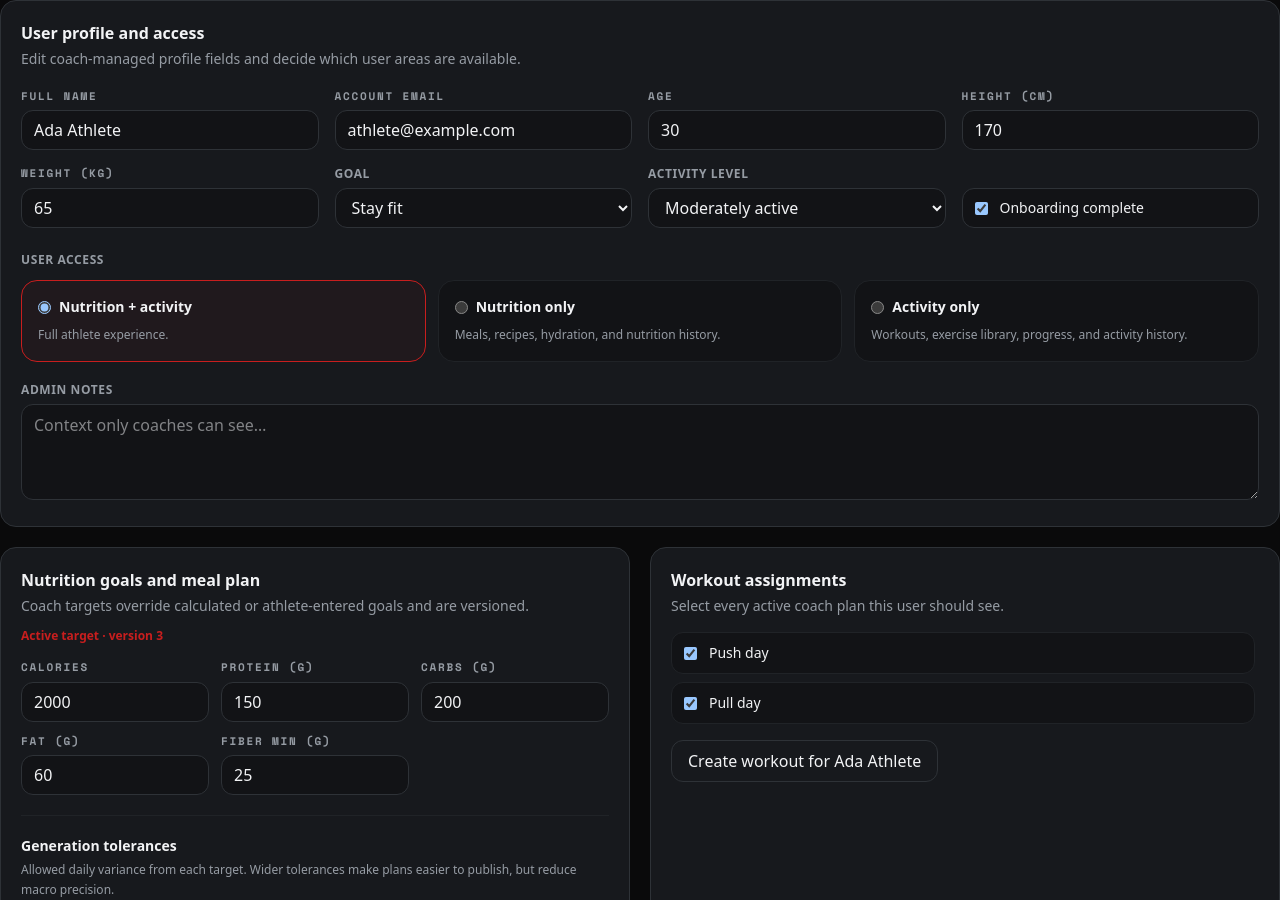
AthleteManagementPanel › treats a workout selection as clean after toggling a checkbox off and back on (order-insensitive)
Click the checkbox labelled "Push day" at coordinates (690, 653), box [684,647,697,660]
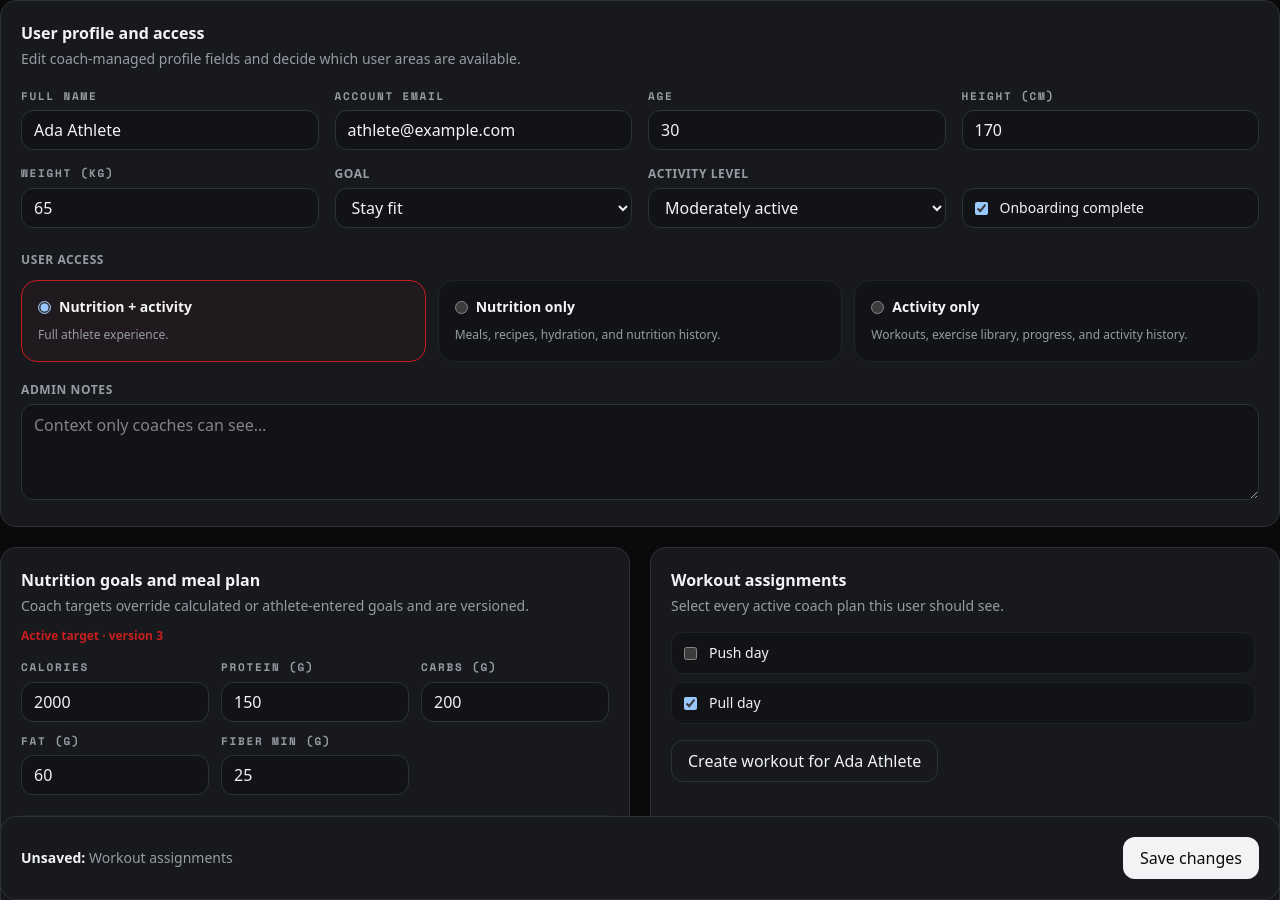
Expected: the text "Unsaved:" shows "Workout assignments", [89,848,233,867]
Click the checkbox labelled "Push day" at coordinates (690, 653), box [684,647,697,660]
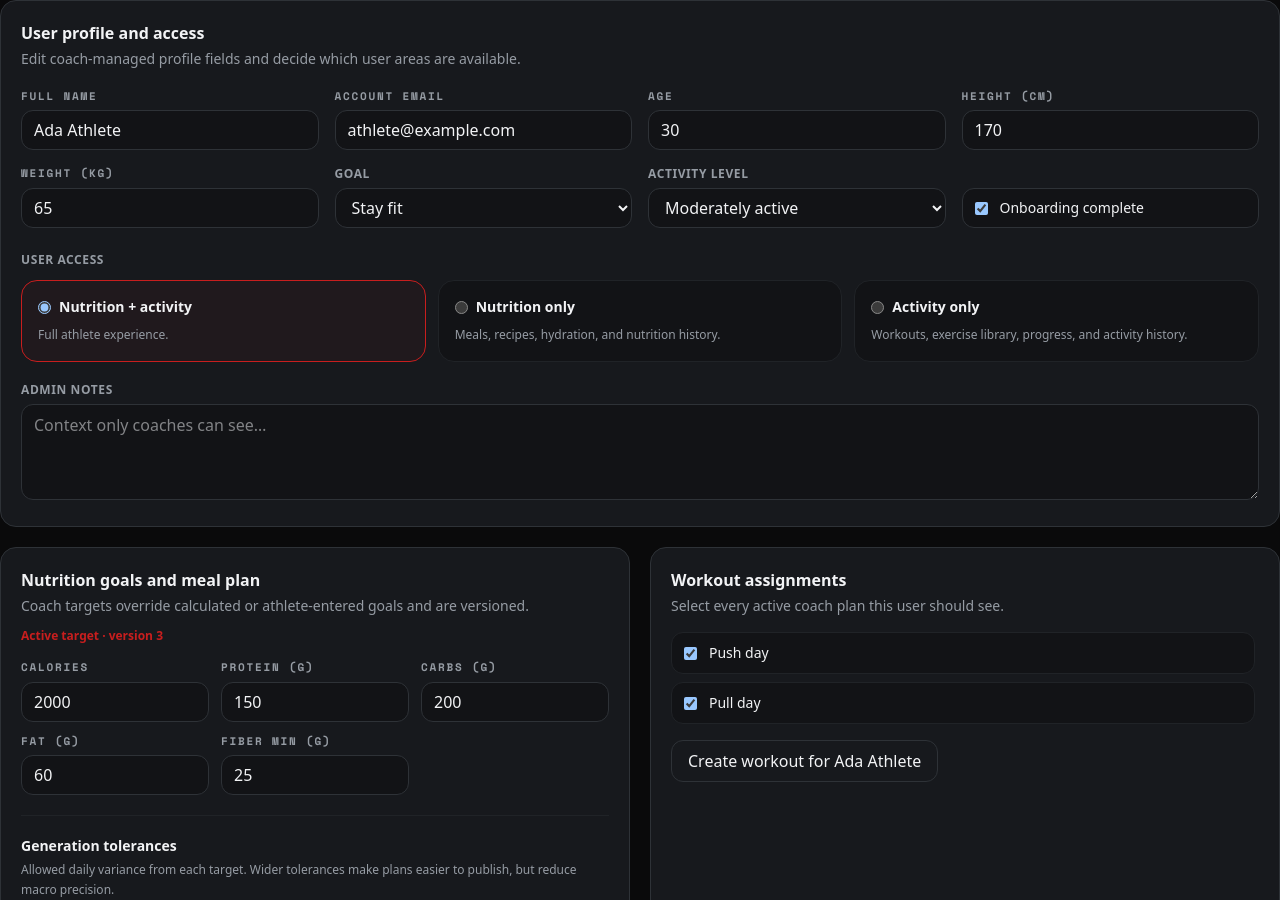
Expected: the text "Unsaved:" is gone
